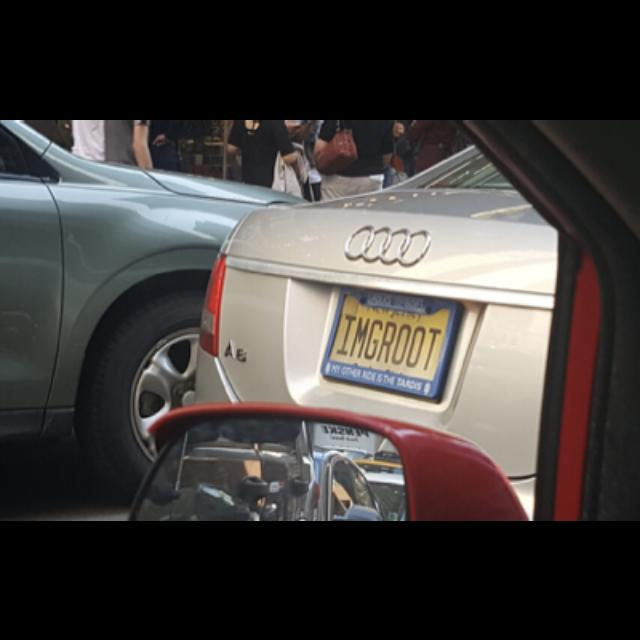carPlate: (321, 286, 463, 400)
